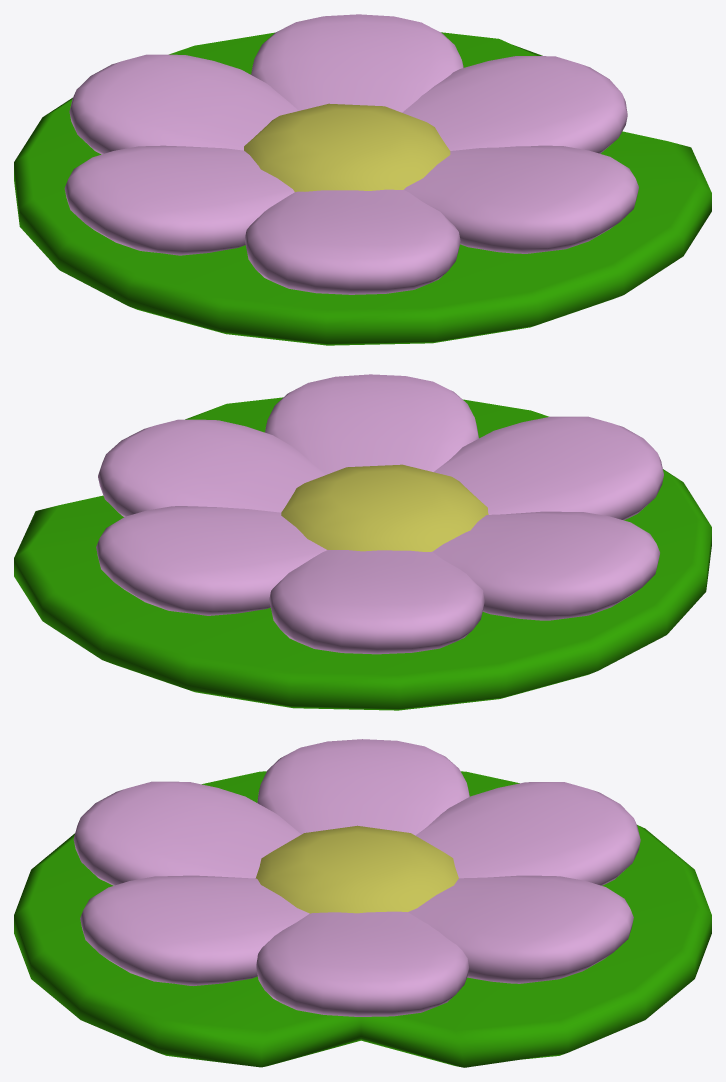
The model's file is NinfeaFlower.fbx.
3 renders of one model, top to bottom at view 1: azimuth 30°, elevation 25°; view 2: azimuth 150°, elevation 25°; view 3: azimuth 270°, elevation 25°, orthographic.
Visible parts, largest first — view 1: Ninfea2, pCube7, pCube8, pCube2, pCube9, pCube11, pCube10, pCylinder1; view 2: Ninfea2, pCube9, pCube10, pCube2, pCube7, pCube8, pCube11, pCylinder1; view 3: Ninfea2, pCube8, pCube11, pCube10, pCube7, pCube9, pCube2, pCylinder1.
Boxes of the visible parts, bbox=[...] form: Ninfea2: bbox=[14, 32, 711, 345]; pCube7: bbox=[244, 189, 460, 294]; pCube8: bbox=[404, 145, 638, 253]; pCube2: bbox=[64, 145, 294, 255]; pCube9: bbox=[69, 54, 298, 154]; pCube11: bbox=[402, 56, 627, 153]; pCube10: bbox=[251, 14, 463, 112]; pCylinder1: bbox=[244, 103, 450, 191]; Ninfea2: bbox=[14, 397, 711, 710]; pCube9: bbox=[269, 550, 484, 654]; pCube10: bbox=[96, 506, 326, 615]; pCube2: bbox=[432, 511, 659, 620]; pCube7: bbox=[434, 416, 663, 520]; pCube8: bbox=[265, 374, 478, 474]; pCube11: bbox=[98, 419, 325, 516]; pCylinder1: bbox=[281, 464, 488, 551]; Ninfea2: bbox=[14, 771, 711, 1067]; pCube8: bbox=[80, 875, 309, 985]; pCube11: bbox=[256, 911, 468, 1016]; pCube10: bbox=[408, 875, 633, 983]; pCube7: bbox=[73, 781, 301, 885]; pCube9: bbox=[415, 782, 640, 885]; pCube2: bbox=[257, 739, 469, 835]; pCylinder1: bbox=[255, 825, 458, 913].
Bounding box in the file's own units: 6.65 × 0.8573 × 6.95.
